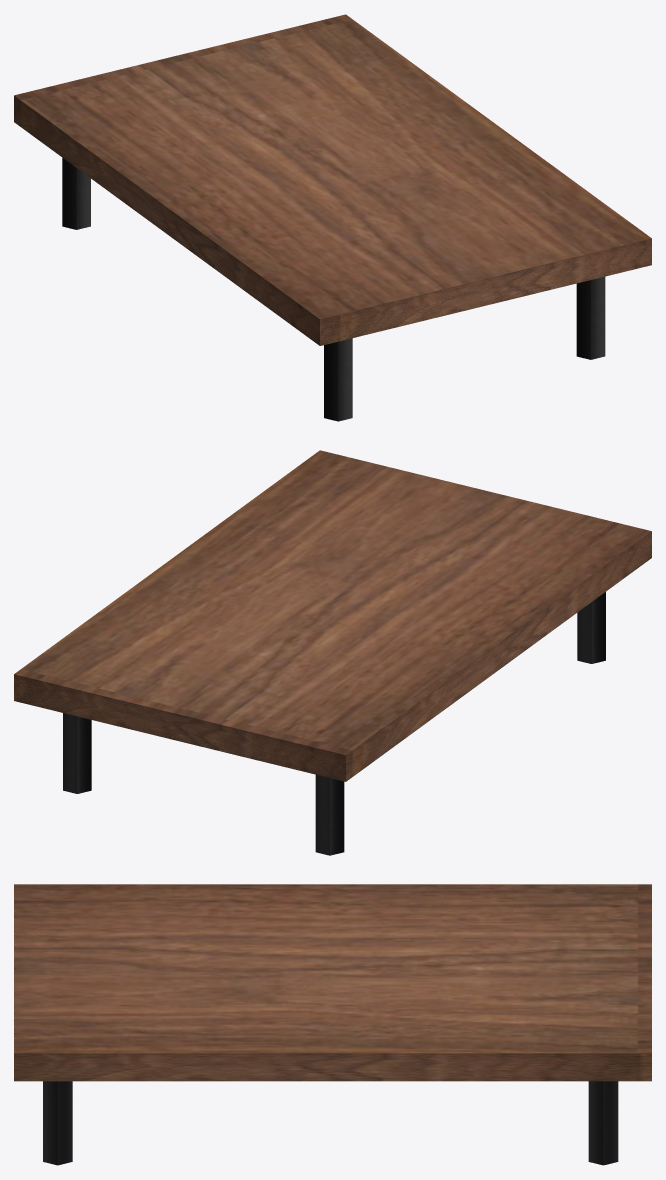
The model's file is COFFE_TABLE.fbx.
3 renders of one model, top to bottom at view 1: azimuth 30°, elevation 25°; view 2: azimuth 150°, elevation 25°; view 3: azimuth 270°, elevation 25°, orthographic. The views are drawn at different scales.
Parts seen in each view (by area): view 1: COFFE_TABLE; view 2: COFFE_TABLE; view 3: COFFE_TABLE.
Part boxes in pixels (box(x1,y1,x2,y2)): COFFE_TABLE: box(14, 14, 651, 421); COFFE_TABLE: box(14, 450, 651, 855); COFFE_TABLE: box(14, 884, 651, 1165).
Bounding box in the file's own units: 128 × 44.19 × 204.
